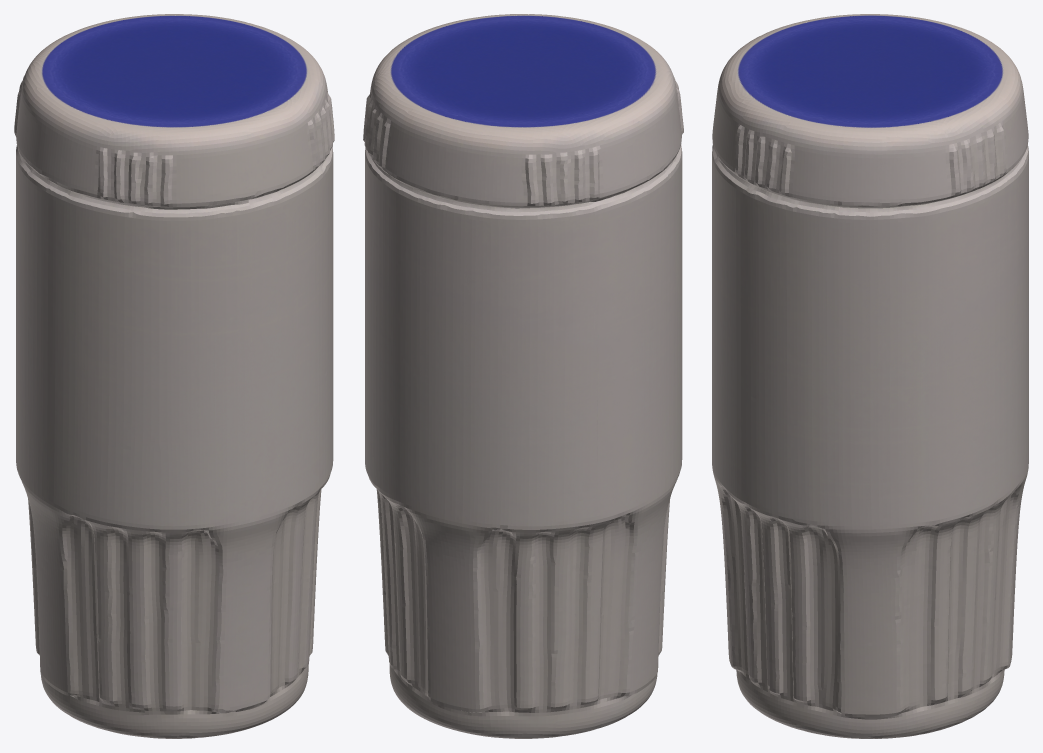
The model's file is dairy-products-container.glb.
3 renders of one model, left to right at view 1: azimuth 30°, elevation 25°; view 2: azimuth 150°, elevation 25°; view 3: azimuth 270°, elevation 25°, orthographic.
Parts seen in each view (by area): view 1: Mesh_0; view 2: Mesh_0; view 3: Mesh_0.
Boxes of the visible parts, x1,y1,x2,y2 form: Mesh_0: (14, 14, 334, 738); Mesh_0: (363, 14, 683, 738); Mesh_0: (712, 14, 1028, 738).
Size of the model in its own units: 0.8925 by 1.91 by 0.8924.
Materials: 1 (1 with a texture image).
